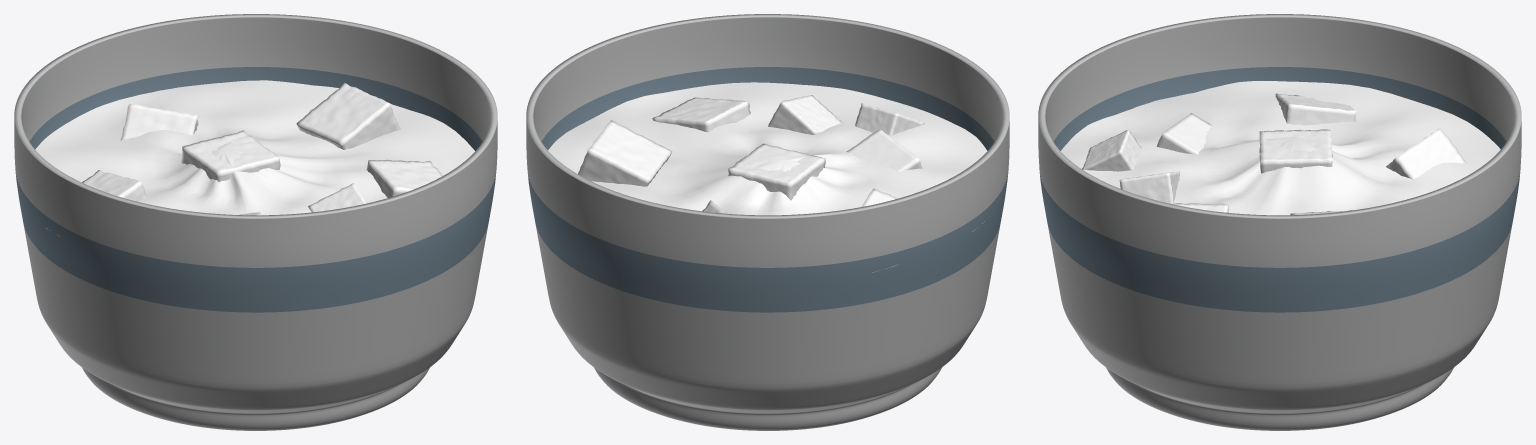
File: gula.fbx
The picture shows the model from 3 angles, left to right: view 1: azimuth 30°, elevation 25°; view 2: azimuth 150°, elevation 25°; view 3: azimuth 270°, elevation 25°; orthographic projection.
Parts seen in each view (by area): view 1: bowl, Circle, Cube.002, Cube, Cube.003, Cube.007, Cube.004, Cube.008; view 2: bowl, Circle, Cube.002, Cube, Cube.003, Cube.008, Cube.006, Cube.005; view 3: bowl, Circle, Cube, Cube.007, Cube.004, Cube.005, Cube.006, Cube.008.
Boxes of the visible parts, x1,y1,x2,y2 form: bowl: (14,14,497,430); Circle: (16,80,475,235); Cube.002: (296,82,400,149); Cube: (181,130,280,182); Cube.003: (366,159,442,197); Cube.007: (120,103,198,140); Cube.004: (82,170,147,201); Cube.008: (308,183,366,212); bowl: (526,14,1009,430); Circle: (548,82,987,272); Cube.002: (578,120,672,186); Cube: (728,143,825,200); Cube.003: (652,97,750,132); Cube.008: (768,95,841,134); Cube.006: (846,129,922,171); Cube.005: (855,103,924,135); bowl: (1038,14,1521,430); Circle: (1060,81,1500,215); Cube: (1259,129,1332,173); Cube.007: (1386,128,1466,179); Cube.004: (1275,93,1356,125); Cube.005: (1082,129,1141,171); Cube.006: (1156,113,1211,154); Cube.008: (1119,171,1179,203).
Bounding box in the file's own units: 46.11 × 25.69 × 46.11.
